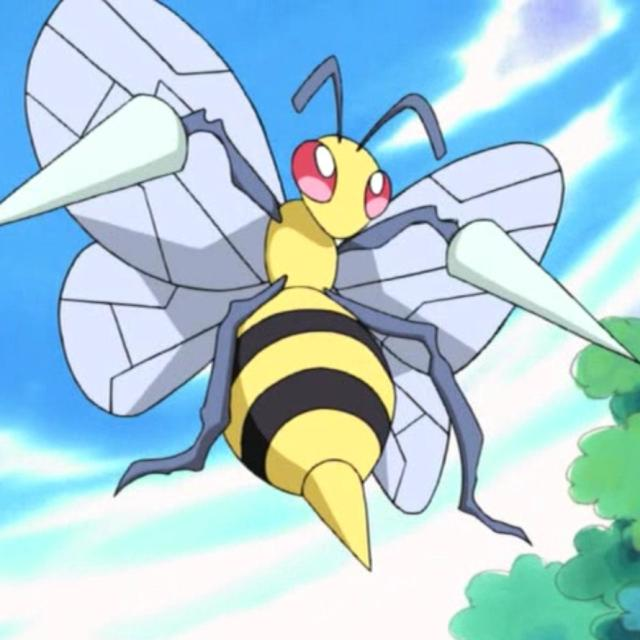Beedrill: (110, 92, 527, 496)
